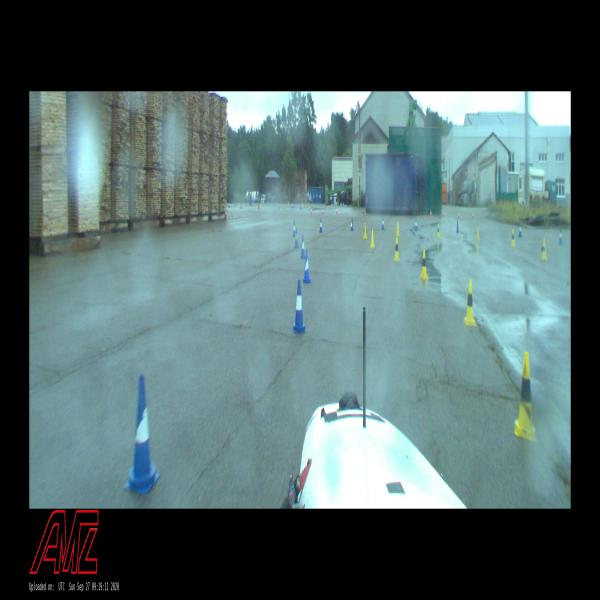blue_cone: (124, 376, 160, 494), (292, 280, 306, 332), (303, 250, 311, 283), (300, 235, 306, 258), (294, 228, 299, 248), (558, 228, 563, 245), (292, 221, 296, 237), (319, 218, 323, 233), (518, 223, 522, 237), (350, 218, 354, 231), (456, 219, 459, 234), (415, 218, 418, 232), (381, 216, 384, 229)
orange_cone: (472, 210, 474, 220), (336, 206, 338, 215), (297, 206, 299, 215), (444, 210, 446, 218), (322, 208, 324, 215), (458, 212, 460, 219), (430, 211, 432, 217), (311, 208, 312, 215)
yellow_cone: (514, 351, 536, 441), (463, 279, 476, 326), (419, 249, 429, 281), (394, 236, 400, 261), (541, 239, 547, 260), (510, 228, 516, 247), (370, 229, 375, 248), (363, 222, 367, 239), (476, 226, 479, 242), (436, 223, 439, 237), (397, 222, 399, 235)
